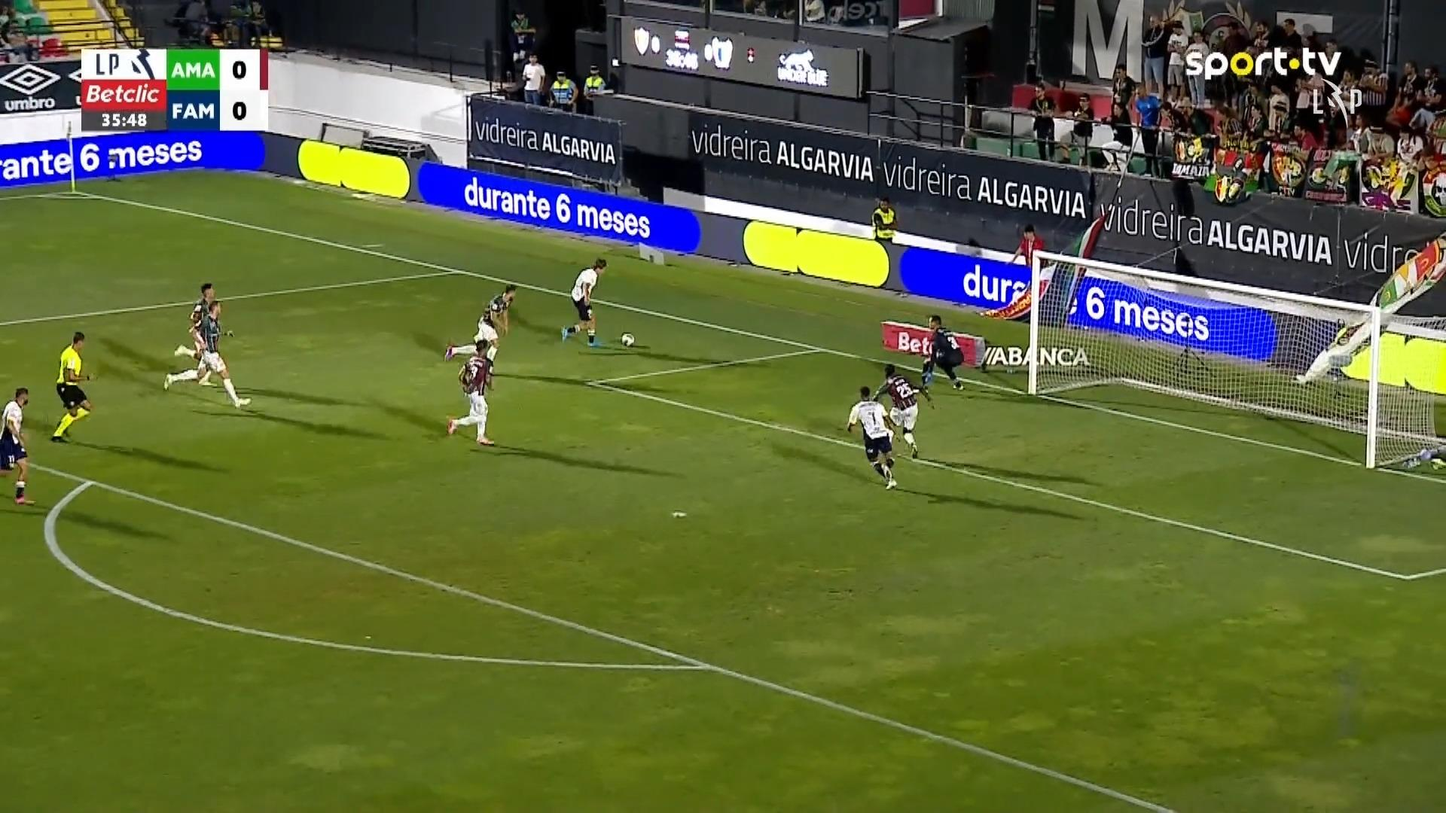ball: (621, 332, 634, 347)
goalkeeper: (919, 314, 965, 391)
player: (162, 300, 252, 409), (444, 337, 496, 446), (845, 385, 898, 490), (873, 362, 926, 459), (559, 257, 609, 347), (0, 386, 35, 505), (474, 283, 517, 376), (186, 282, 224, 385)
referee: (49, 330, 96, 443)
